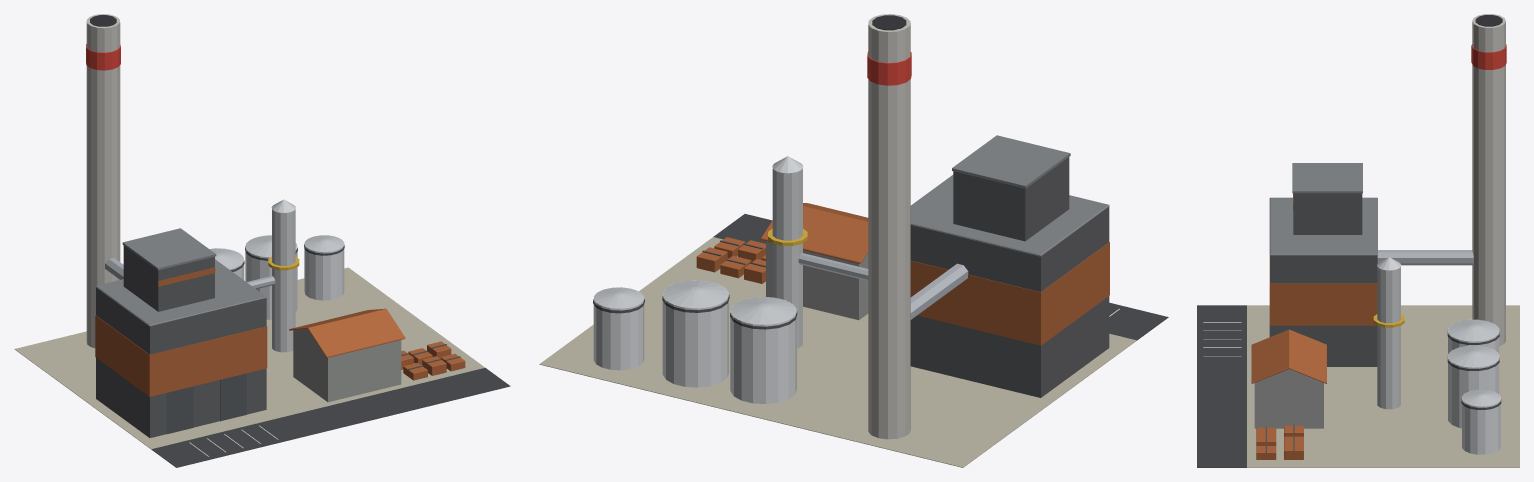
The model's file is coppersmelter.glb.
3 renders of one model, left to right at view 1: azimuth 30°, elevation 25°; view 2: azimuth 150°, elevation 25°; view 3: azimuth 270°, elevation 25°, orthographic. The views are drawn at different scales.
Parts seen in each view (by area): view 1: coppersmelter; view 2: coppersmelter; view 3: coppersmelter.
Boxes of the visible parts, box(x1,y1,x2,y2) form: coppersmelter: box(14, 14, 510, 467); coppersmelter: box(539, 14, 1168, 467); coppersmelter: box(1197, 14, 1519, 467).
Size of the model in its own units: 50 by 46.06 by 42.
